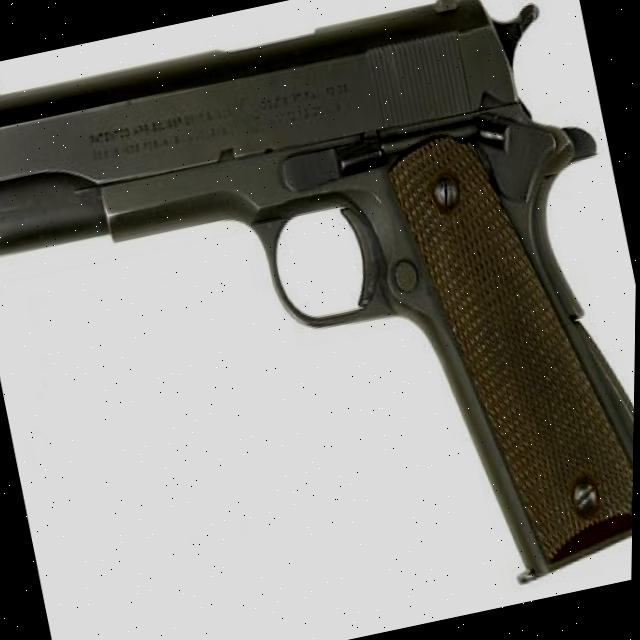gun: (0, 0, 634, 587)
